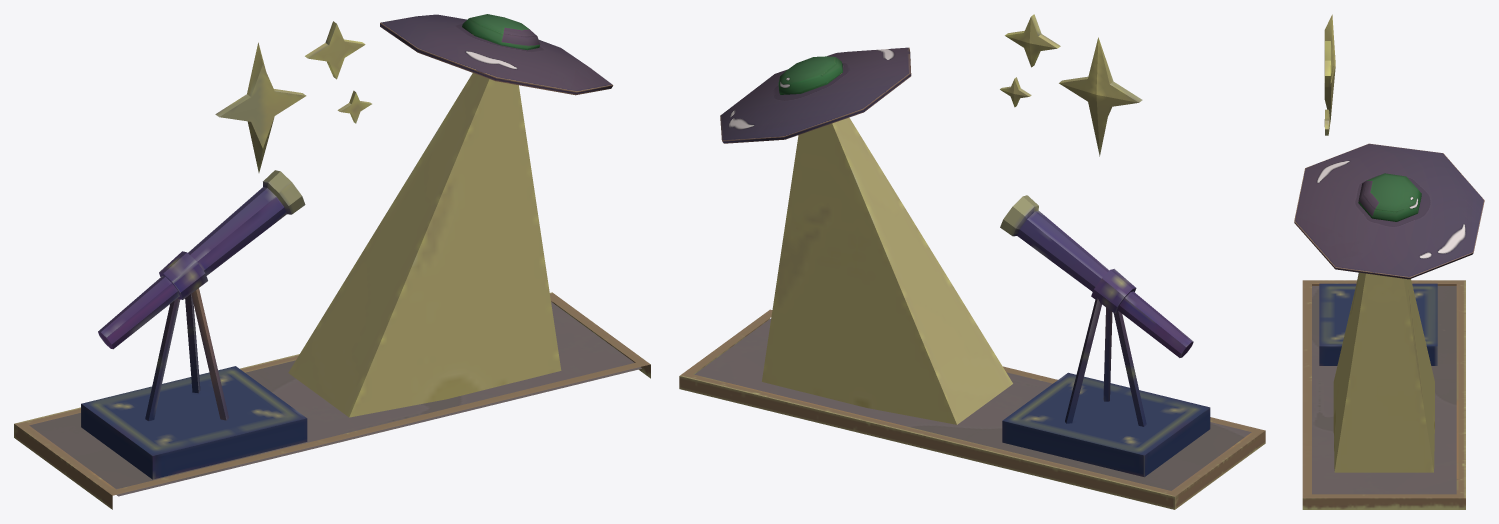
Rendered from ufo.glb.
The picture shows the model from 3 angles, left to right: view 1: azimuth 30°, elevation 25°; view 2: azimuth 150°, elevation 25°; view 3: azimuth 270°, elevation 25°; orthographic projection. The views are drawn at different scales.
Visible parts, largest first — view 1: egipt_1.007; view 2: egipt_1.007; view 3: egipt_1.007.
Part boxes in pixels (<box>): egipt_1.007: <box>14,14,650,509</box>; egipt_1.007: <box>679,14,1265,509</box>; egipt_1.007: <box>1294,14,1484,509</box>.
Size of the model in its own units: 6.31 by 4.69 by 2.33.
Materials: 2 (2 with a texture image).
